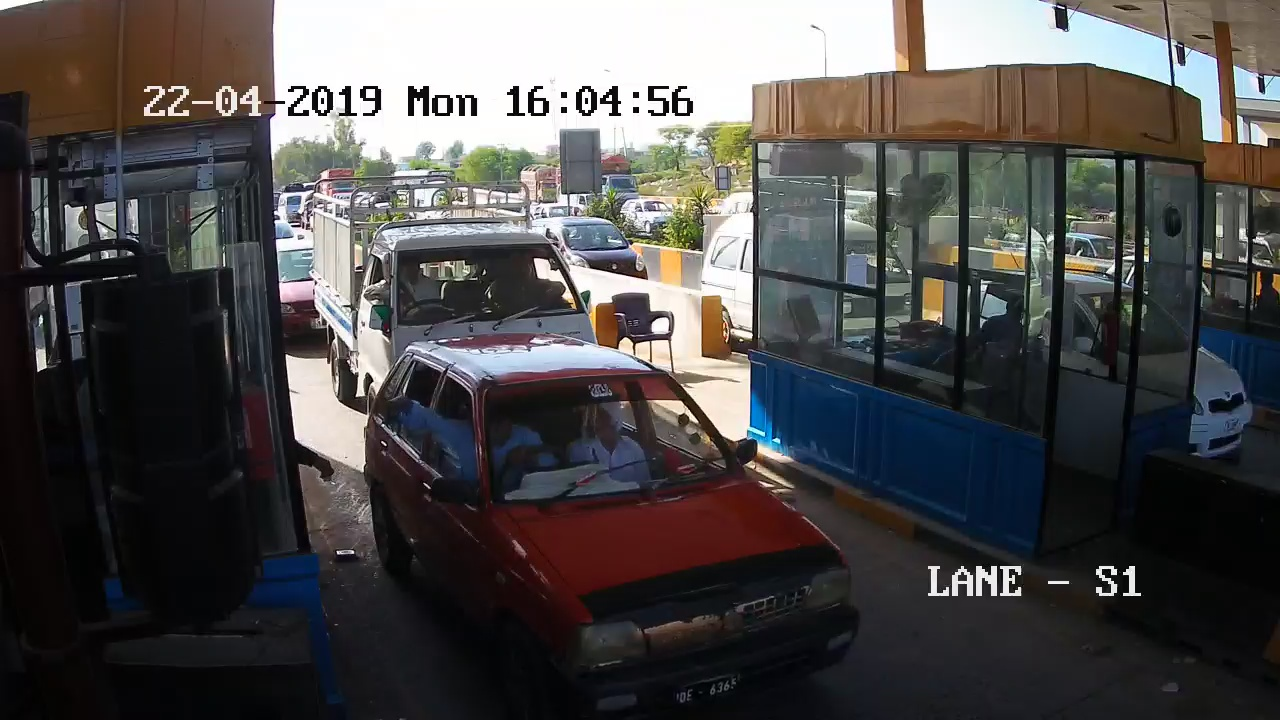Number Plate (Car): (667, 678, 742, 706)
